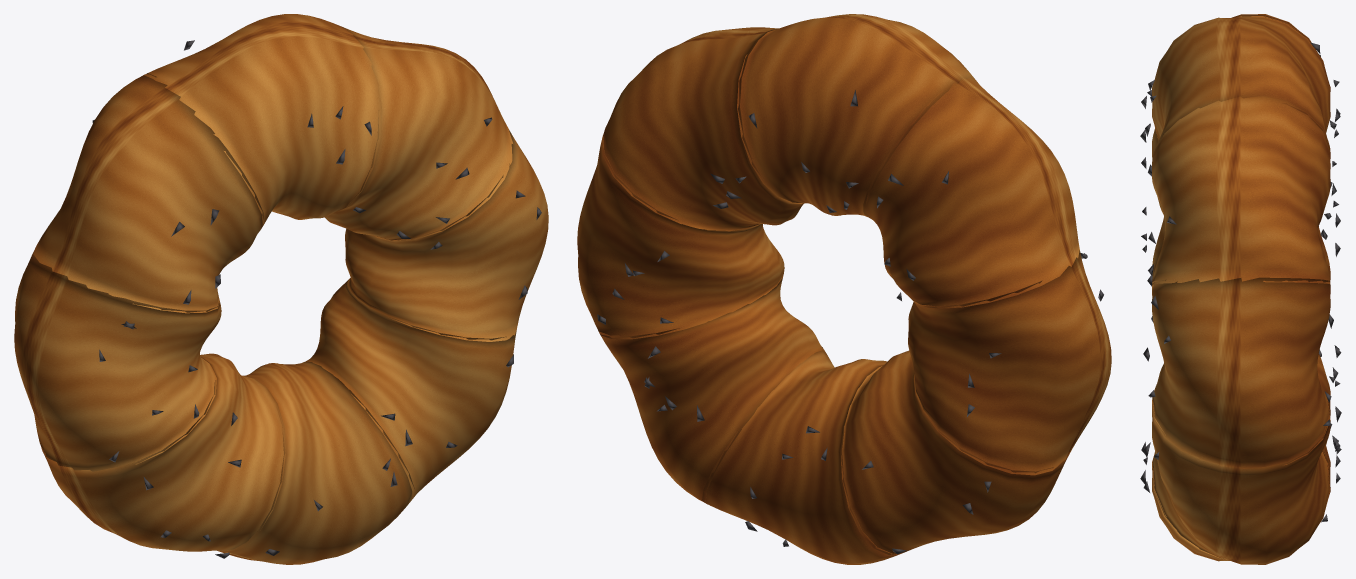
File: acma.glb
3 renders of one model, left to right at view 1: azimuth 30°, elevation 25°; view 2: azimuth 150°, elevation 25°; view 3: azimuth 270°, elevation 25°, orthographic. The views are drawn at different scales.
Visible parts, largest first — view 1: AcmaSeg_4, AcmaSeg_3, AcmaSeg_5, AcmaSeg_6, AcmaSeg_2, AcmaSeg_7, AcmaSeg_0, AcmaSeg_1; view 2: AcmaSeg_4, AcmaSeg_3, AcmaSeg_5, AcmaSeg_2, AcmaSeg_6, AcmaSeg_1, AcmaSeg_0, AcmaSeg_7; view 3: AcmaSeg_1, AcmaSeg_2, AcmaSeg_0, AcmaSeg_3, AcmaSeg_7, AcmaSeg_5, AcmaSeg_4, AcmaSeg_6.
Boxes of the visible parts, x1,y1,x2,y2 form: AcmaSeg_4: (33,73,264,313); AcmaSeg_3: (143,14,382,225); AcmaSeg_5: (14,244,221,471); AcmaSeg_6: (39,353,285,558); AcmaSeg_2: (325,26,512,240); AcmaSeg_7: (217,361,414,564); AcmaSeg_0: (306,278,516,499); AcmaSeg_1: (345,130,548,341); AcmaSeg_4: (863,76,1079,308); AcmaSeg_3: (737,14,974,216); AcmaSeg_5: (908,250,1111,475); AcmaSeg_2: (602,27,804,231); AcmaSeg_6: (841,350,1070,555); AcmaSeg_1: (577,136,784,339); AcmaSeg_0: (599,278,826,505); AcmaSeg_7: (702,350,901,564); AcmaSeg_1: (1148,277,1341,468); AcmaSeg_2: (1141,96,1338,284); AcmaSeg_0: (1143,399,1341,564); AcmaSeg_3: (1140,16,1340,150); AcmaSeg_7: (1140,391,1340,561); AcmaSeg_5: (1142,182,1340,287); AcmaSeg_4: (1141,14,1340,176); AcmaSeg_6: (1143,316,1338,421).
Bounding box in the file's own units: 0.1741 × 0.1741 × 0.0621.
Materials: 2 (1 with a texture image).
